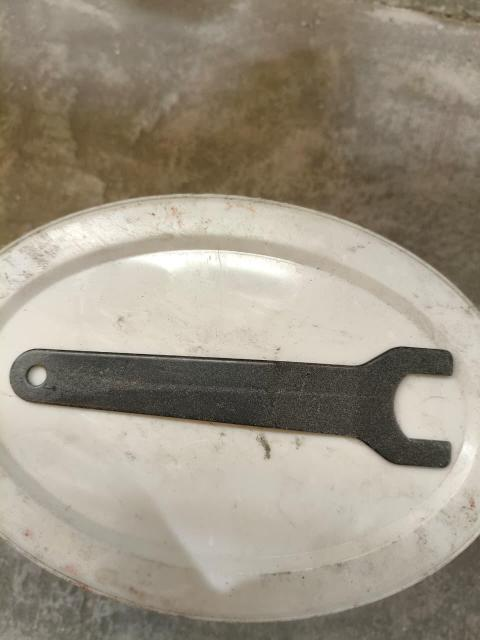Metal: (5, 322, 457, 478)
